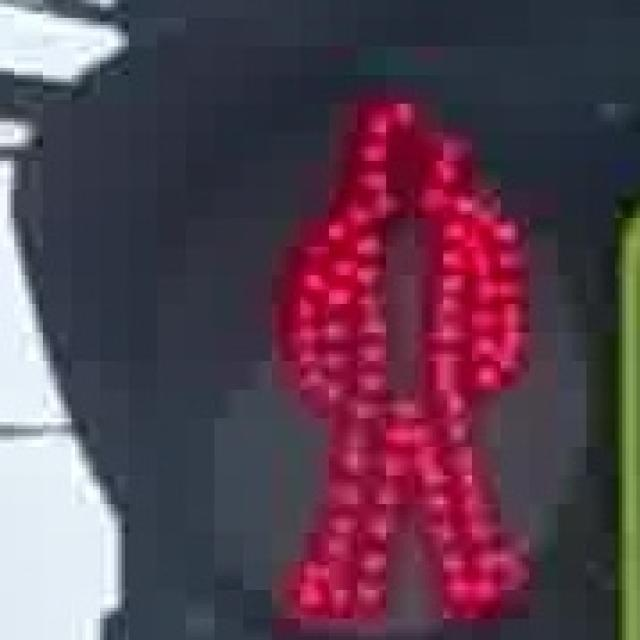red-crossing: (240, 68, 550, 626)
